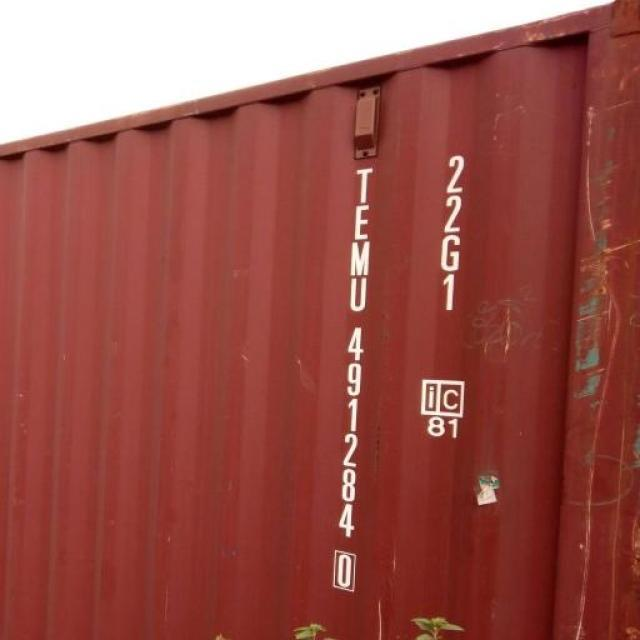ISO: (438, 150, 466, 314)
container_number: (338, 167, 371, 599)
